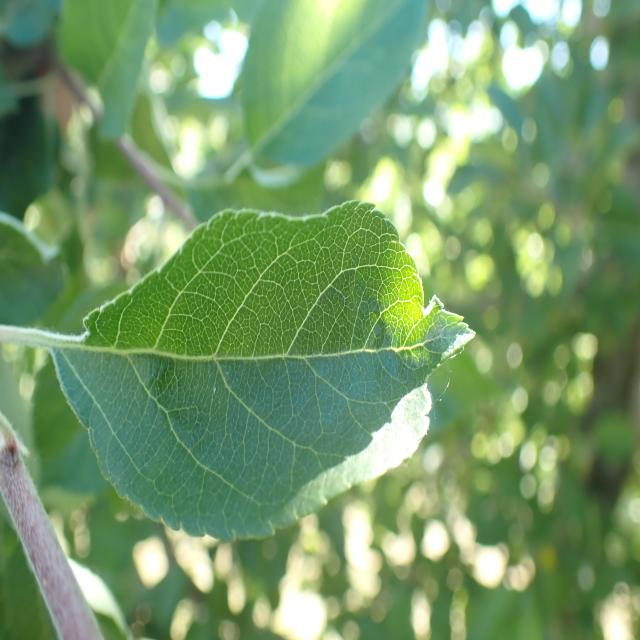healthy: (51, 199, 477, 542), (237, 0, 428, 178)
